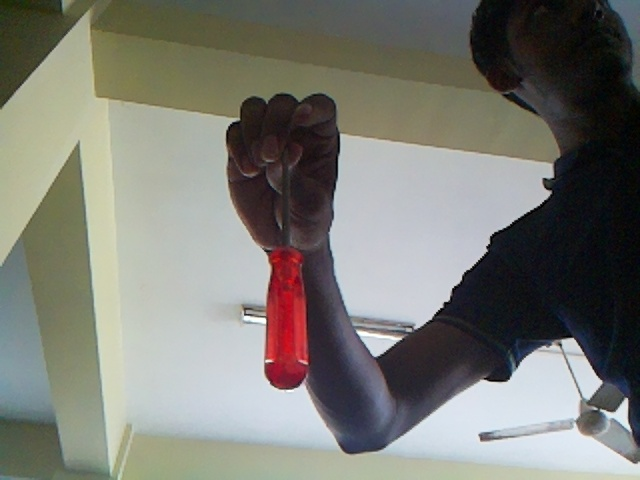redskrew: (257, 225, 317, 411)
